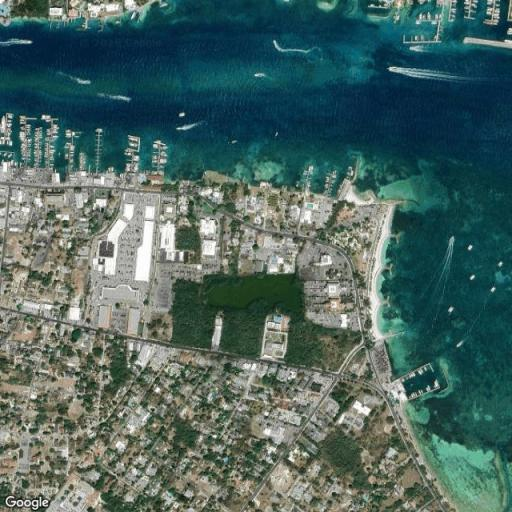ship: (418, 235, 454, 328), (388, 67, 487, 83), (42, 115, 59, 168), (19, 116, 35, 168), (274, 40, 321, 53), (152, 140, 167, 172), (0, 113, 13, 145), (63, 140, 75, 172), (34, 127, 42, 168), (324, 170, 336, 195), (97, 93, 131, 101), (176, 121, 203, 131), (304, 165, 314, 188), (0, 39, 32, 46), (128, 136, 139, 151), (324, 173, 331, 194), (153, 140, 167, 150), (152, 156, 167, 165), (79, 152, 86, 171), (409, 45, 426, 52), (152, 155, 166, 163), (483, 22, 501, 26), (128, 136, 139, 142), (348, 167, 354, 178), (159, 0, 168, 7), (124, 148, 133, 155), (41, 115, 51, 121), (129, 142, 138, 148), (19, 40, 32, 44), (426, 10, 431, 20), (131, 12, 138, 19), (456, 340, 463, 347), (254, 73, 266, 77), (65, 129, 71, 137), (419, 368, 425, 376), (448, 306, 454, 313), (133, 155, 139, 162), (160, 157, 167, 163), (422, 366, 429, 372), (472, 0, 480, 5), (467, 244, 473, 250), (418, 12, 422, 21), (434, 12, 438, 21), (417, 370, 423, 376), (401, 377, 407, 383), (308, 165, 313, 172), (426, 384, 431, 391), (434, 381, 439, 388), (501, 38, 512, 41), (485, 11, 493, 15), (472, 4, 480, 8), (414, 34, 418, 42), (179, 112, 185, 117), (486, 6, 492, 11), (409, 373, 415, 378), (408, 374, 414, 379), (494, 9, 503, 12), (496, 6, 501, 11), (425, 387, 430, 392), (498, 261, 502, 267), (494, 16, 502, 19), (452, 0, 458, 4), (422, 13, 426, 19), (230, 140, 237, 143), (462, 6, 469, 9), (470, 275, 475, 279), (491, 287, 495, 292), (412, 372, 416, 377), (410, 393, 414, 398), (412, 392, 416, 397), (418, 390, 422, 395), (296, 181, 299, 187), (275, 132, 278, 138), (494, 14, 503, 16), (414, 392, 418, 396), (433, 385, 437, 389), (421, 389, 424, 394), (496, 4, 502, 6), (451, 9, 457, 11), (452, 12, 458, 14)
